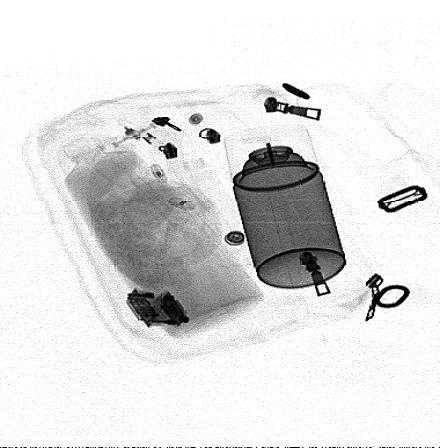Sprayer: (223, 123, 346, 288)
